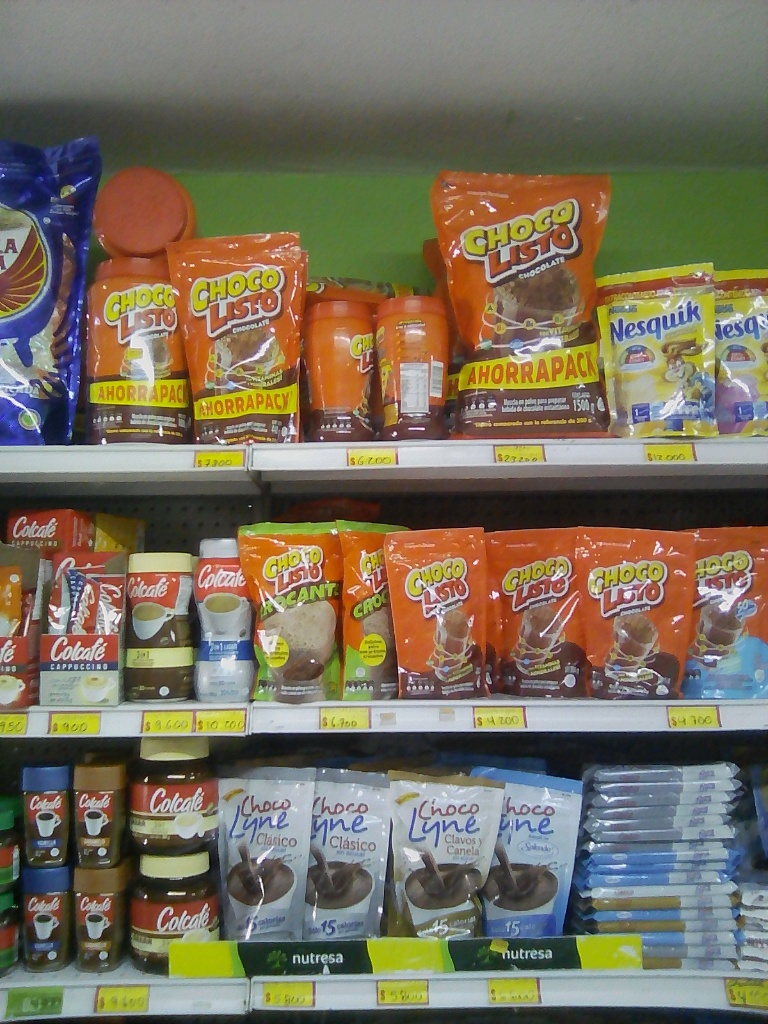COL0170103DYP44000: (170, 227, 295, 445)
COL0170103TRR00100: (84, 264, 192, 444)
